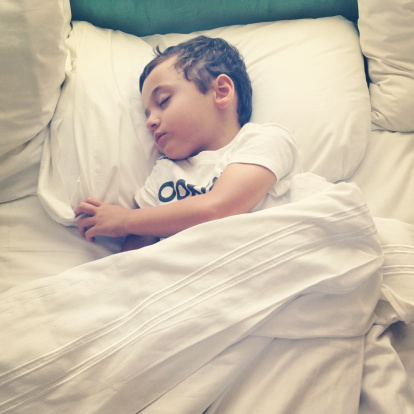deitado: (6, 20, 407, 372)
